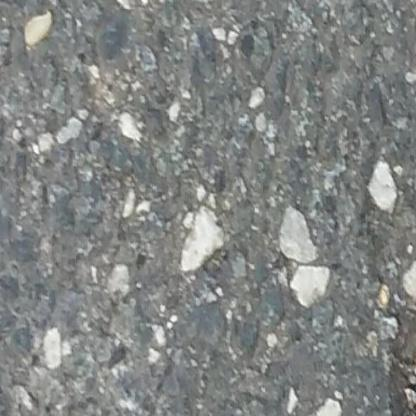Cracks: (402, 305, 416, 416)
